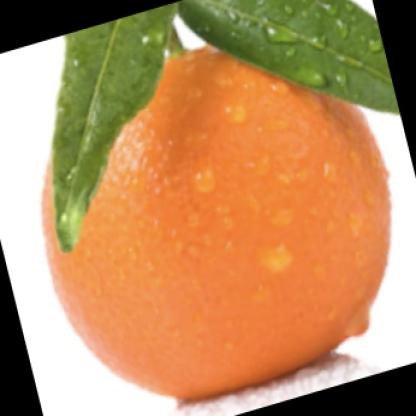fresh: (43, 47, 387, 382)
